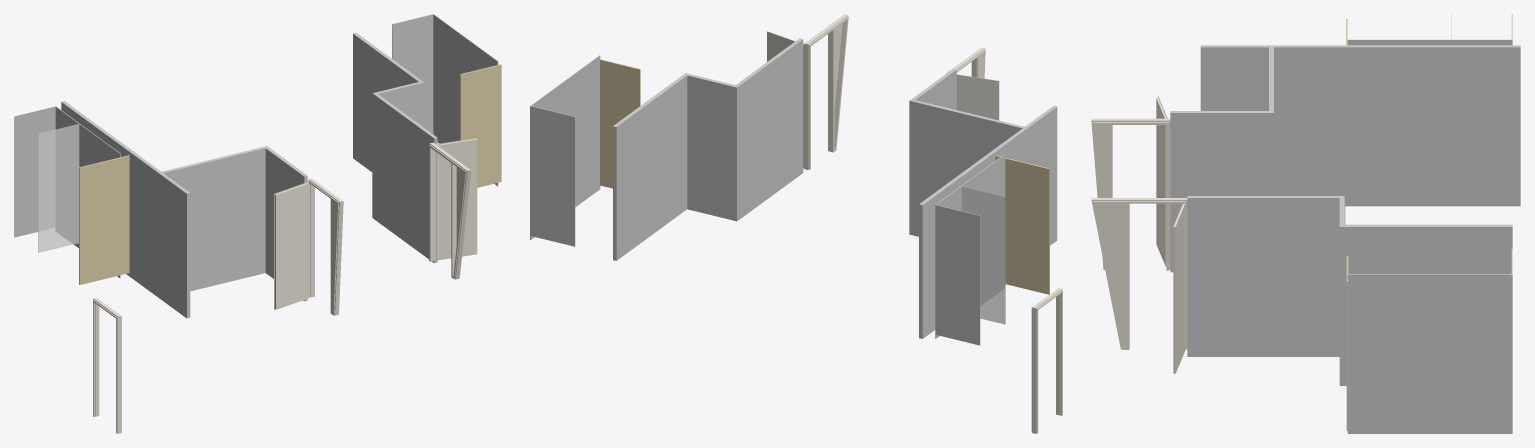
The model's file is standard components2.fbx.
The picture shows the model from 3 angles, left to right: view 1: azimuth 30°, elevation 25°; view 2: azimuth 150°, elevation 25°; view 3: azimuth 270°, elevation 25°; orthographic projection. The views are drawn at different scales.
Parts seen in each view (by area): view 1: OG5 Int Walls, OG5_Int Doors, OG5_Wall Panels, Bathrooms; view 2: OG5 Int Walls, OG5_Wall Panels, OG5_Int Doors, Bathrooms; view 3: OG5 Int Walls, OG5_Int Doors, OG5_Wall Panels.
Boxes of the visible parts, x1,y1,x2,y2 form: OG5 Int Walls: (14,14,498,318); OG5_Int Doors: (93,138,477,433); OG5_Wall Panels: (79,64,501,284); Bathrooms: (38,124,79,252); OG5 Int Walls: (530,38,1057,345); OG5_Wall Panels: (600,59,1049,294); OG5_Int Doors: (767,14,1062,433); Bathrooms: (961,186,1005,324); OG5 Int Walls: (1170,14,1520,433); OG5_Int Doors: (1091,96,1345,373); OG5_Wall Panels: (1346,19,1348,430).
Bounding box in the file's own units: 9.26 × 6.39 × 5.33.
